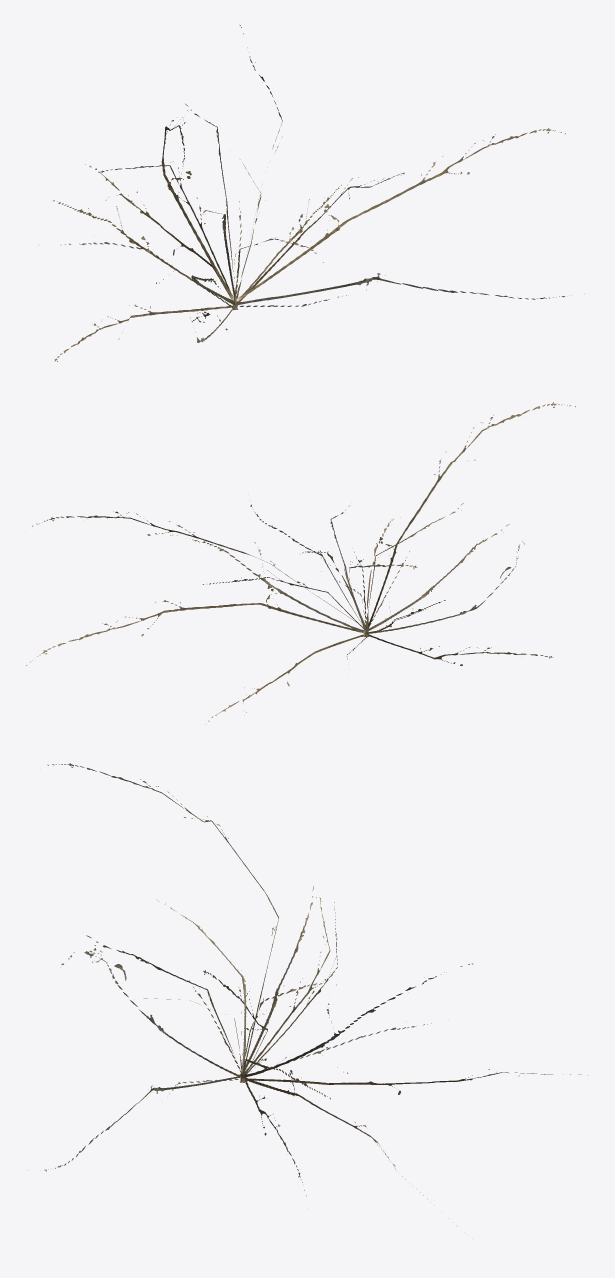
File: desert_reed_1_7.FBX
3 views of the same model, one above another, from view 1: azimuth 30°, elevation 25°; view 2: azimuth 150°, elevation 25°; view 3: azimuth 270°, elevation 25° (orthographic). The views are drawn at different scales.
Parts seen in each view (by area): view 1: desert_reed_1_7; view 2: desert_reed_1_7; view 3: desert_reed_1_7.
Part boxes in pixels (x1,y1,x2,y2): desert_reed_1_7: (38, 25, 565, 361); desert_reed_1_7: (26, 402, 575, 724); desert_reed_1_7: (28, 763, 588, 1232).
Size of the model in its own units: 54.55 by 26.31 by 46.47.
Materials: 1 (1 with a texture image).
